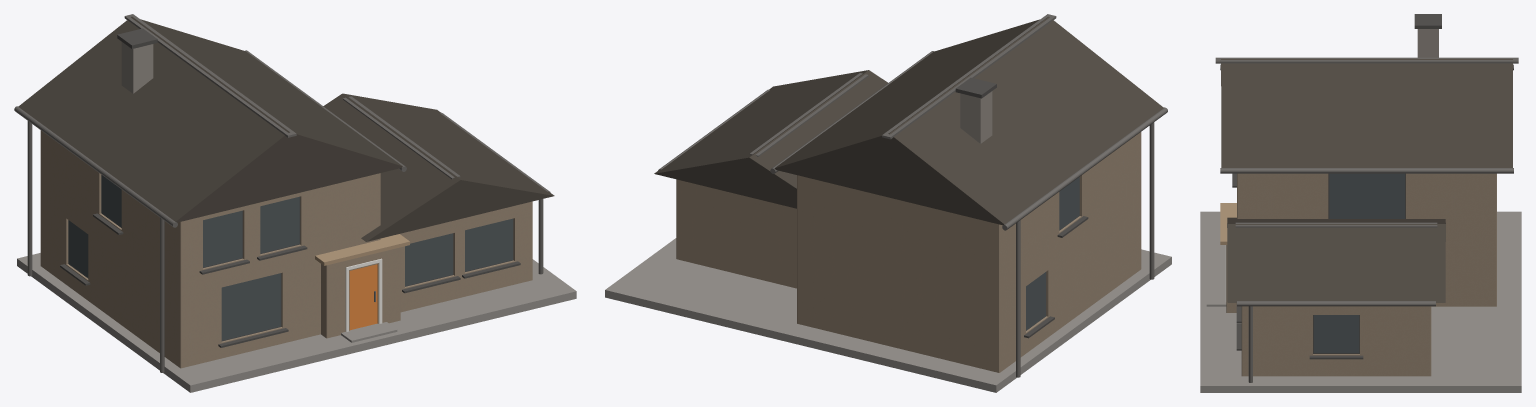
File: house.glb
3 renders of one model, left to right at view 1: azimuth 30°, elevation 25°; view 2: azimuth 150°, elevation 25°; view 3: azimuth 270°, elevation 25°, orthographic. The views are drawn at different scales.
Visible parts, largest first — view 1: roof_main, main, roof_wing, plinth, wing, entry, w3_f, w3_g, w7_f, w6_f, w7_g, w2_f (+18 smaller); view 2: main, roof_main, plinth, roof_wing, wing, ridge_main, chimney, gutter_w, ridge_wing, w5_f, ds1, w5_g (+4 smaller); view 3: roof_main, plinth, roof_wing, main, wing, w9_f, w9_g, ridge_main, w8_f, gutter_e, w8_g, gutter_wing_e (+6 smaller).
Boxes of the visible parts, x1,y1,x2,y2 form: roof_main: (18,16,402,222); main: (40,130,380,368); roof_wing: (323,93,554,241); plinth: (17,253,576,392); wing: (400,201,532,312); entry: (321,247,400,338); w3_f: (221,273,281,341); w3_g: (222,273,280,340); w7_f: (465,218,513,271); w6_f: (405,233,453,286); w7_g: (465,219,512,271); w2_f: (260,196,300,253); main: (797,132,1141,372); roof_main: (774,16,1163,225); plinth: (605,238,1171,392); roof_wing: (654,70,887,208); wing: (676,179,796,288); ridge_main: (882,14,1056,139); chimney: (960,91,992,143); gutter_w: (1002,107,1167,230); ridge_wing: (749,73,868,156); w5_f: (1026,272,1046,330); ds1: (1149,122,1154,279); w5_g: (1026,272,1045,329); roof_main: (1221,59,1512,167); plinth: (1200,211,1521,392); roof_wing: (1227,217,1445,302); main: (1237,173,1496,306); wing: (1241,306,1431,376); w9_f: (1328,173,1405,218); w9_g: (1329,174,1404,218); ridge_main: (1215,57,1518,63); w8_f: (1313,315,1359,353); gutter_e: (1220,168,1513,173); w8_g: (1314,315,1358,352); gutter_wing_e: (1237,301,1435,306).
Bounding box in the file's own units: 13.74 × 8.31 × 10.5.
10 materials, 1 textured.
